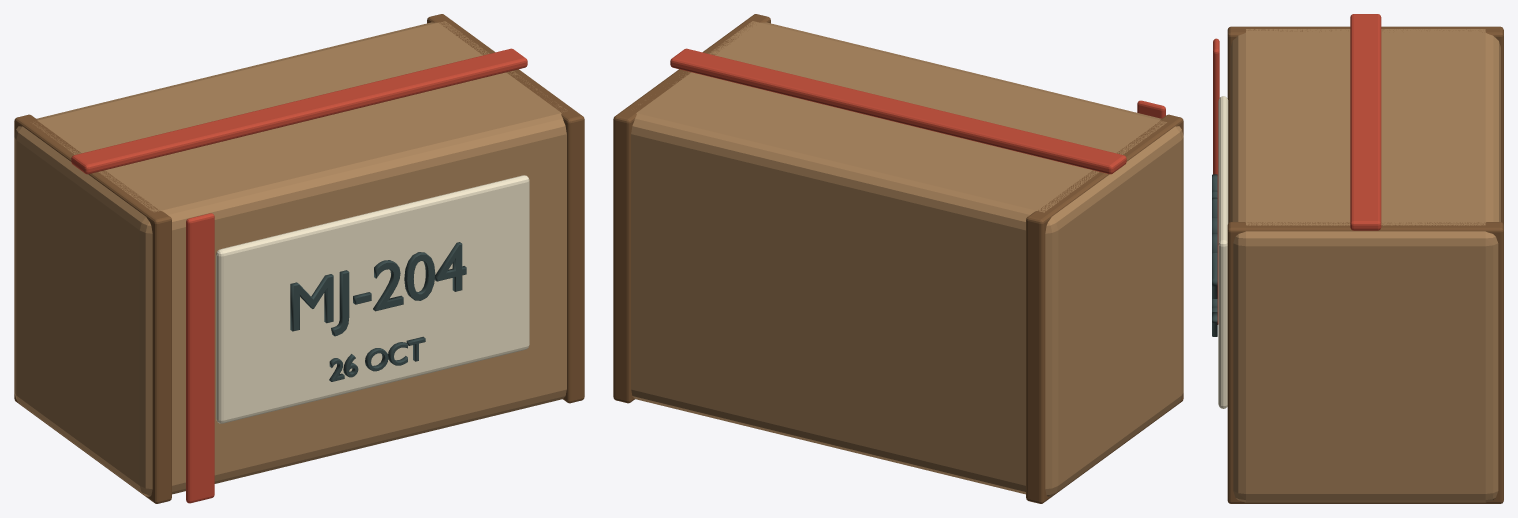
Rendered from package-204-v1-DIto5p1g.glb.
3 views of the same model, side by side, from view 1: azimuth 30°, elevation 25°; view 2: azimuth 150°, elevation 25°; view 3: azimuth 270°, elevation 25° (orthographic). The views are drawn at different scales.
Parts seen in each view (by area): view 1: Package box, Shipping label, Horizontal seal band, Vertical seal band, Reinforced edge, Reinforced edge.001, Package number, Package date; view 2: Package box, Horizontal seal band, Reinforced edge, Reinforced edge.001; view 3: Package box, Horizontal seal band, Reinforced edge.001, Shipping label, Reinforced edge, Vertical seal band, Package number.
Part boxes in pixels (box(x1,y1,x2,y2)): Package box: box(14, 21, 567, 496); Shipping label: box(216, 175, 529, 423); Horizontal seal band: box(71, 48, 527, 174); Vertical seal band: box(186, 213, 214, 503); Reinforced edge: box(14, 114, 171, 503); Reinforced edge.001: box(427, 14, 584, 403); Package number: box(290, 242, 466, 336); Package date: box(329, 336, 425, 381); Package box: box(631, 21, 1183, 496); Horizontal seal band: box(670, 48, 1126, 174); Reinforced edge: box(1026, 114, 1183, 503); Reinforced edge.001: box(613, 14, 770, 403); Package box: box(1230, 29, 1500, 502); Horizontal seal band: box(1350, 14, 1381, 230); Reinforced edge.001: box(1227, 222, 1503, 503); Shipping label: box(1218, 96, 1228, 408); Reinforced edge: box(1227, 26, 1503, 224); Vertical seal band: box(1213, 38, 1219, 324); Package number: box(1212, 174, 1217, 298).
Bounding box in the file's own units: 1.76 × 1.12 × 1.04.
